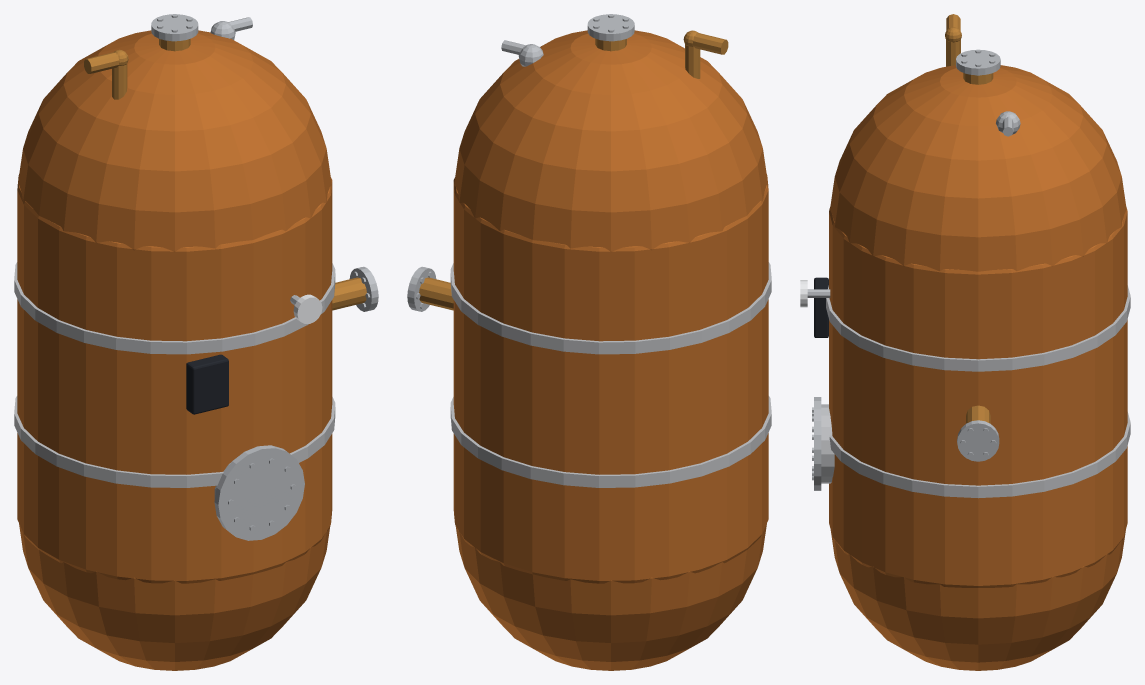
Rendered from dhw.glb.
The picture shows the model from 3 angles, left to right: view 1: azimuth 30°, elevation 25°; view 2: azimuth 150°, elevation 25°; view 3: azimuth 270°, elevation 25°; orthographic projection. The views are drawn at different scales.
Visible parts, largest first — view 1: tank_tank_body, tank_chiller_metal, tank_tank_band, tank_tank_pipe, tank_chiller_dark, tank_gauge_face; view 2: tank_tank_body, tank_tank_band, tank_chiller_metal, tank_tank_pipe; view 3: tank_tank_body, tank_tank_band, tank_chiller_metal, tank_tank_pipe, tank_chiller_dark.
Boxes of the visible parts, x1,y1,x2,y2 form: tank_tank_body: (17,30,332,670); tank_chiller_metal: (151,14,378,540); tank_tank_band: (14,262,335,499); tank_tank_pipe: (84,38,366,310); tank_chiller_dark: (186,354,228,414); tank_gauge_face: (293,294,322,323); tank_tank_body: (453,30,768,670); tank_tank_band: (450,262,771,487); tank_chiller_metal: (407,14,634,311); tank_tank_pipe: (419,30,728,310); tank_tank_body: (829,65,1127,670); tank_tank_band: (821,285,1130,498); tank_chiller_metal: (807,49,1020,490); tank_tank_pipe: (945,14,993,423); tank_chiller_dark: (814,277,828,337).
Size of the model in its own units: 1.46 by 2.66 by 1.33.
